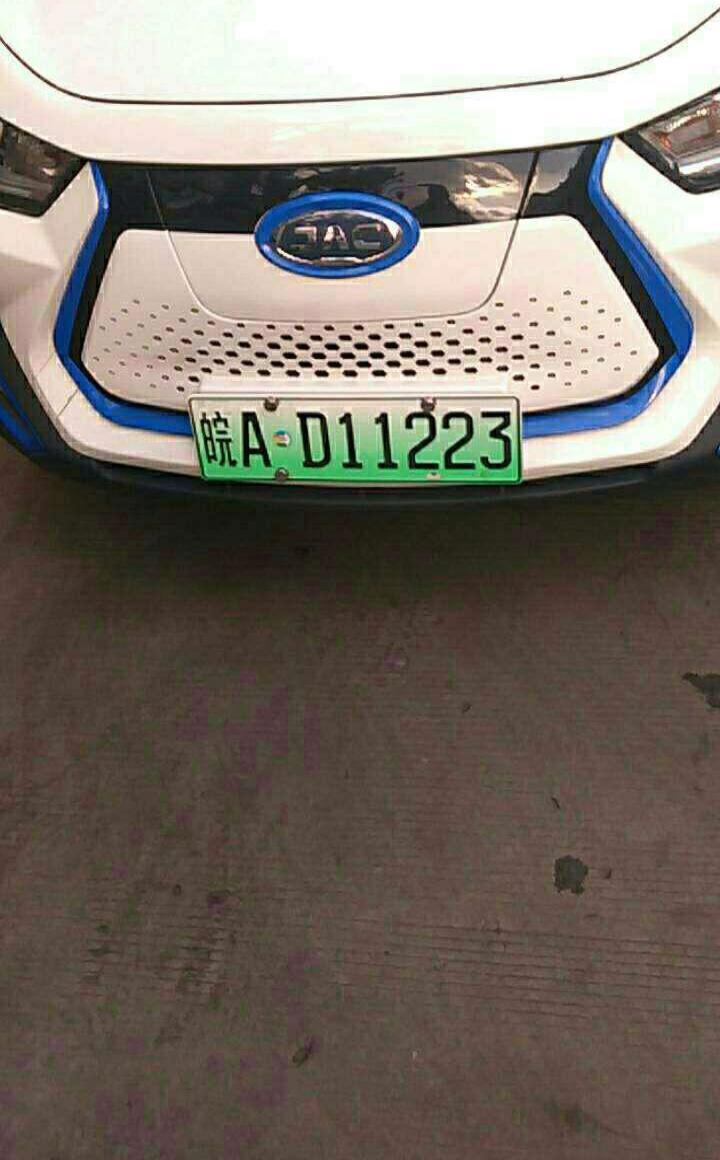car: (180, 393, 534, 485)
